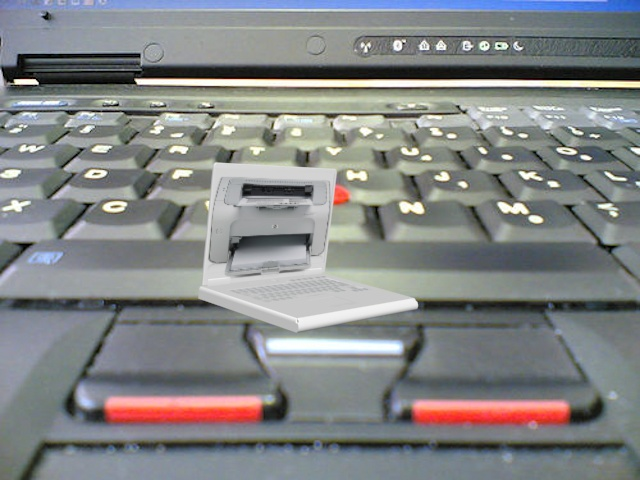laptop_computer: (193, 161, 424, 336)
